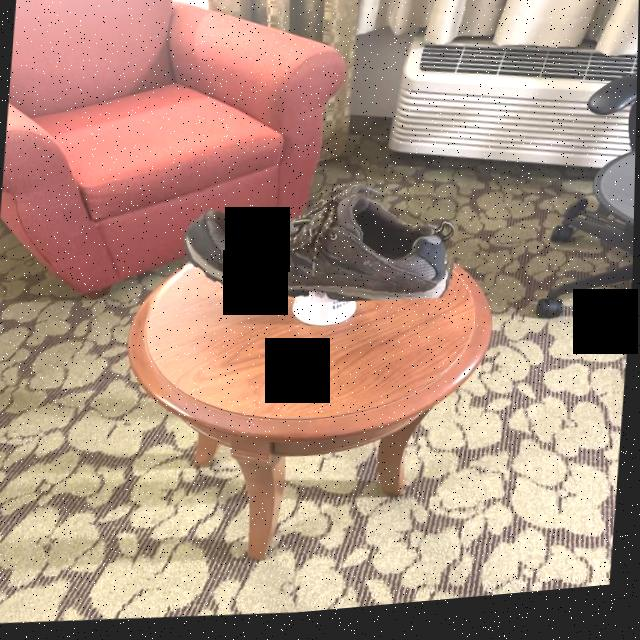shoe: (182, 174, 464, 325)
